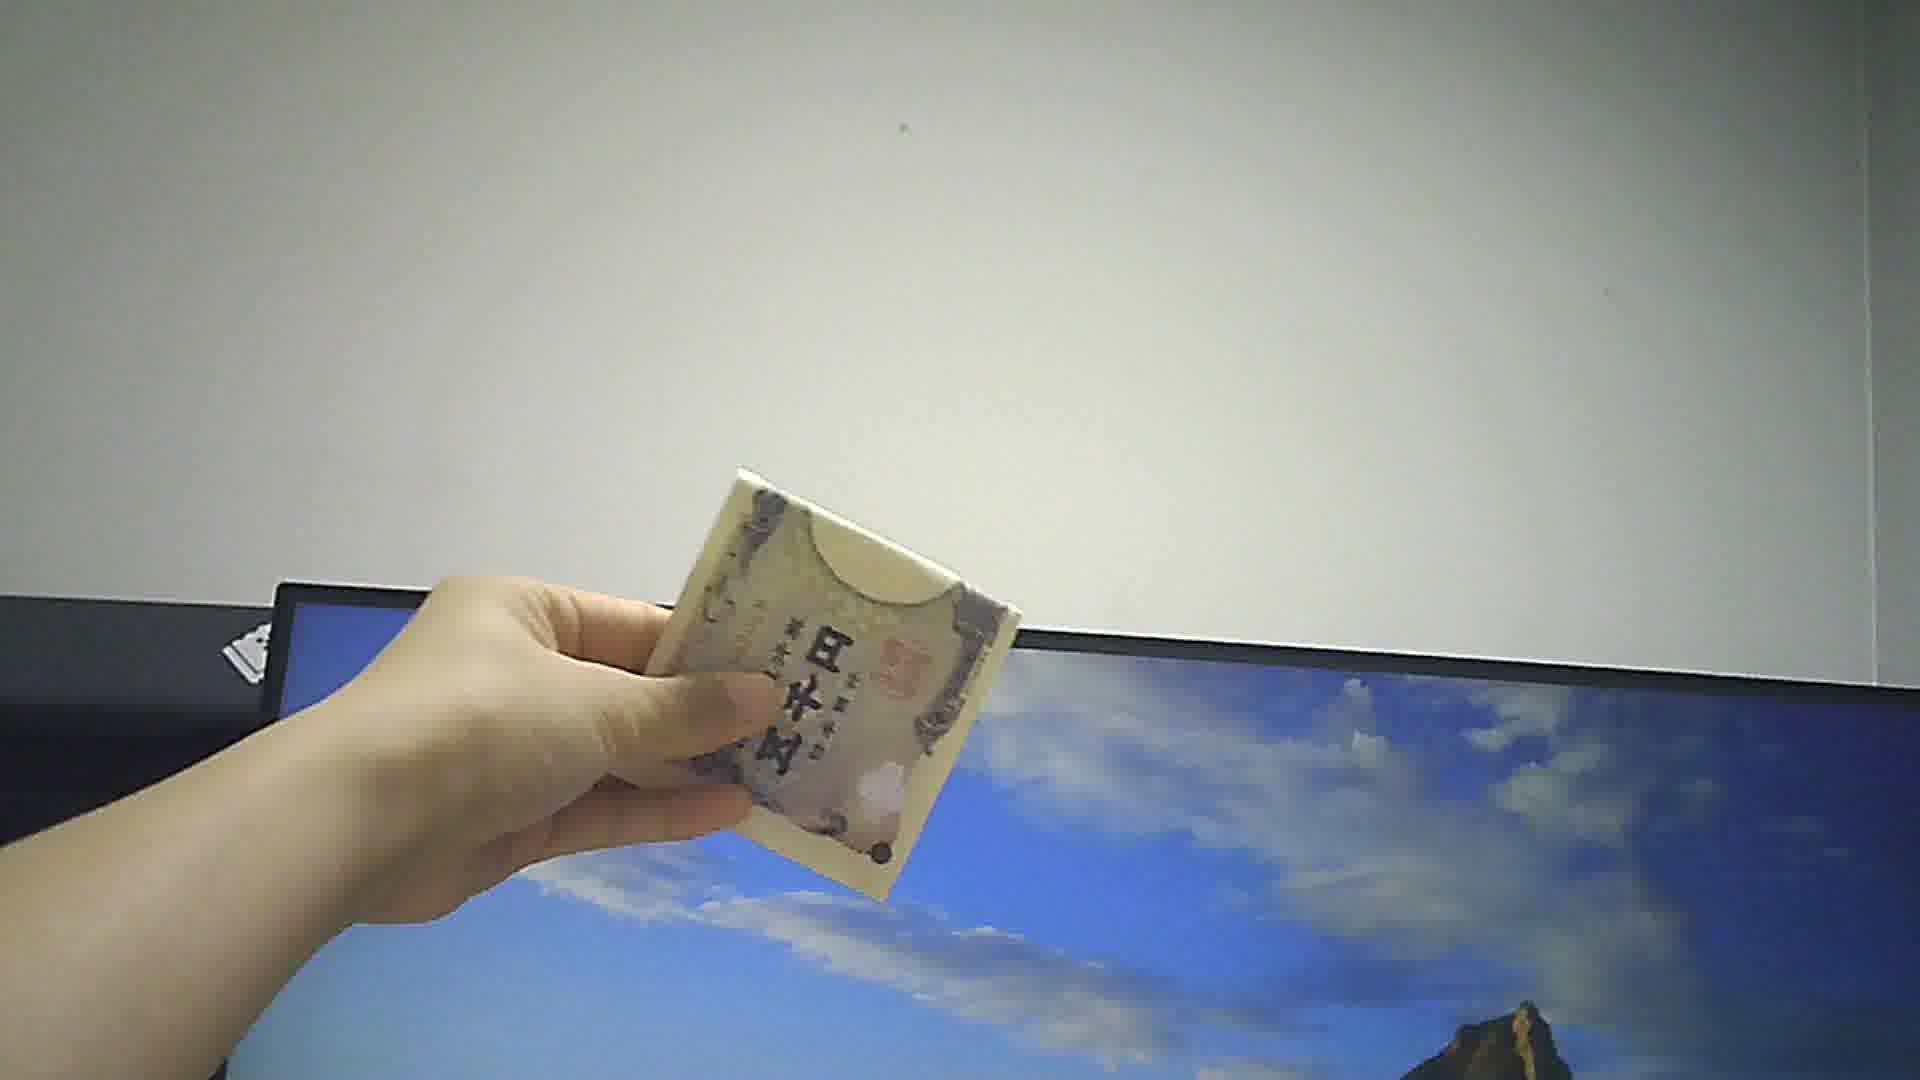5,000 Yen: (616, 465, 1006, 906)
